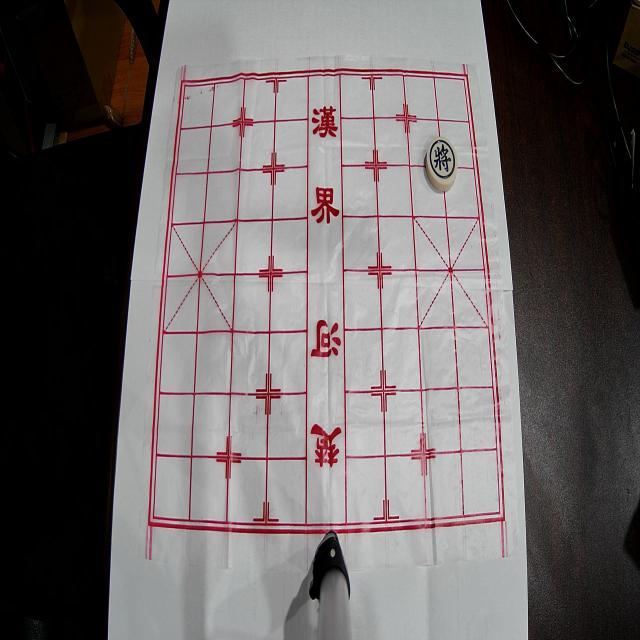black-general: (426, 137, 458, 191)
